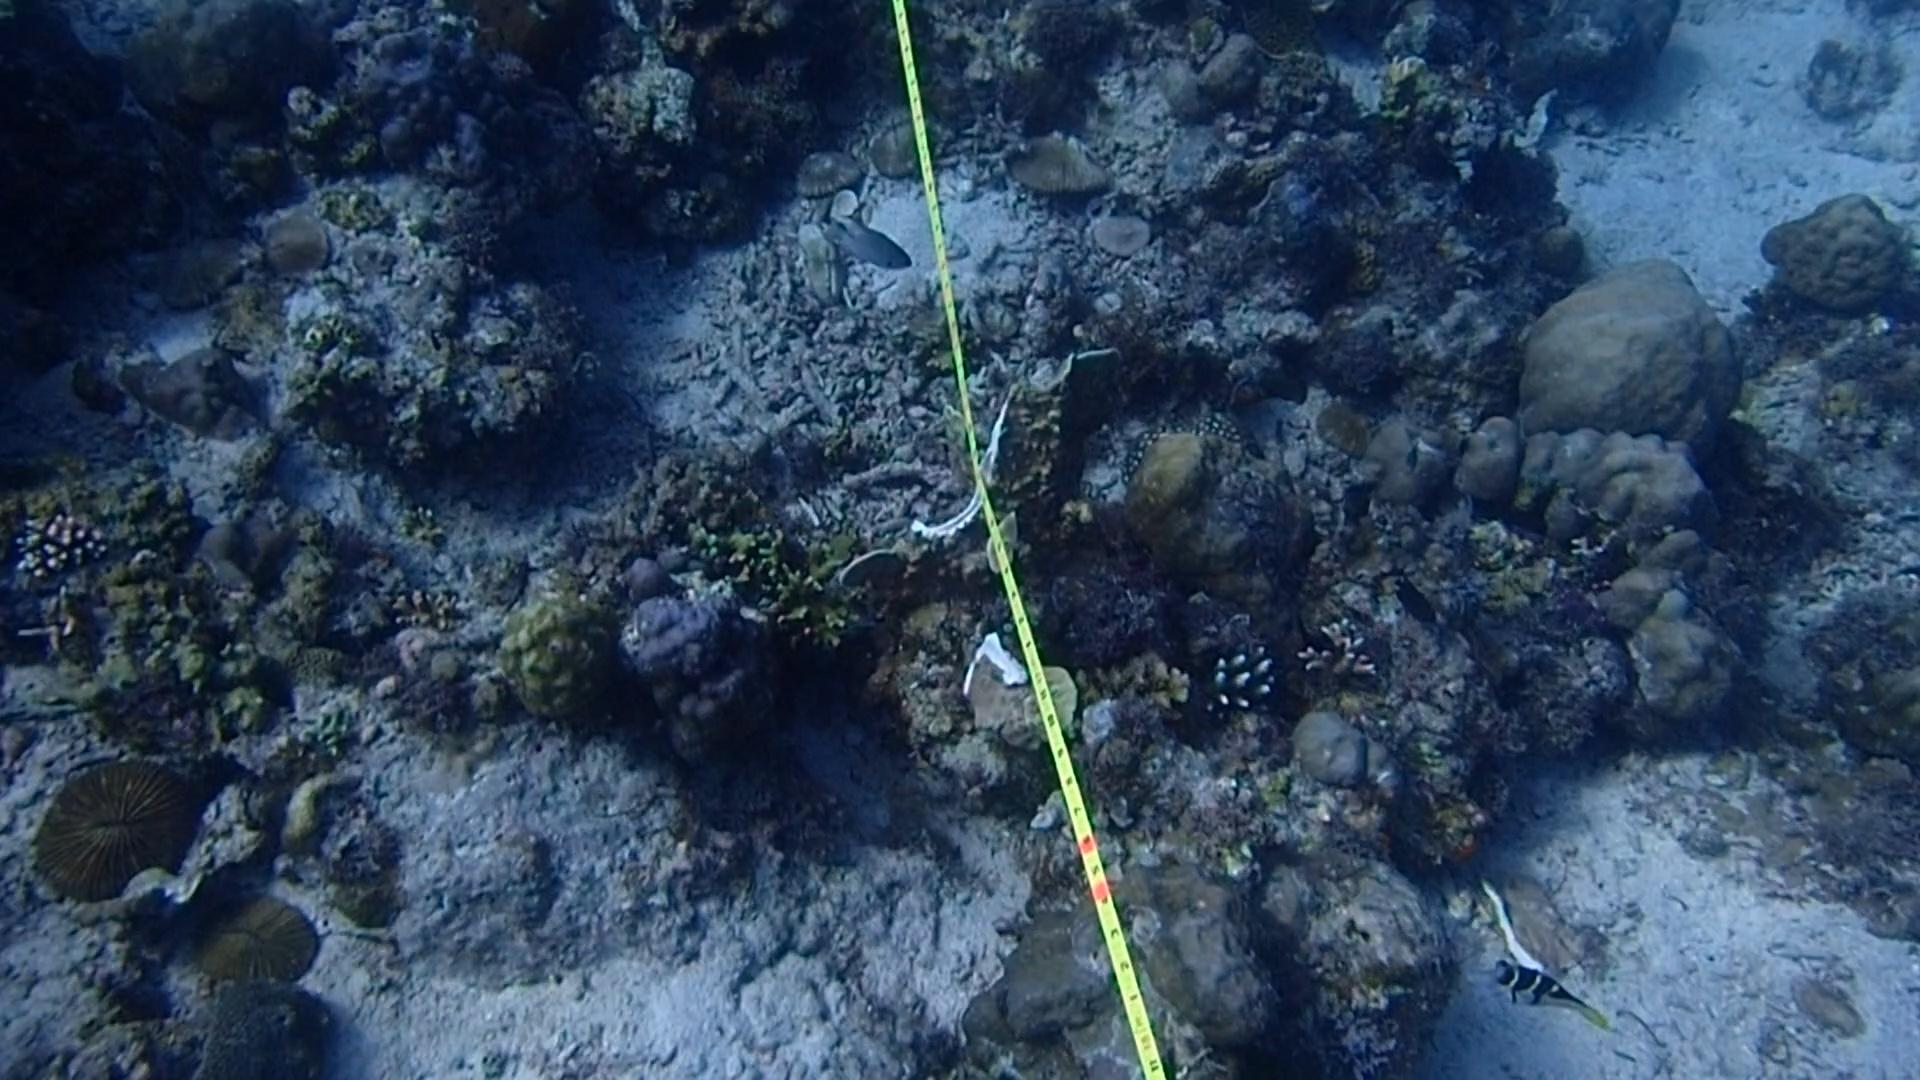Striped Fish: (1495, 956, 1610, 1036)
